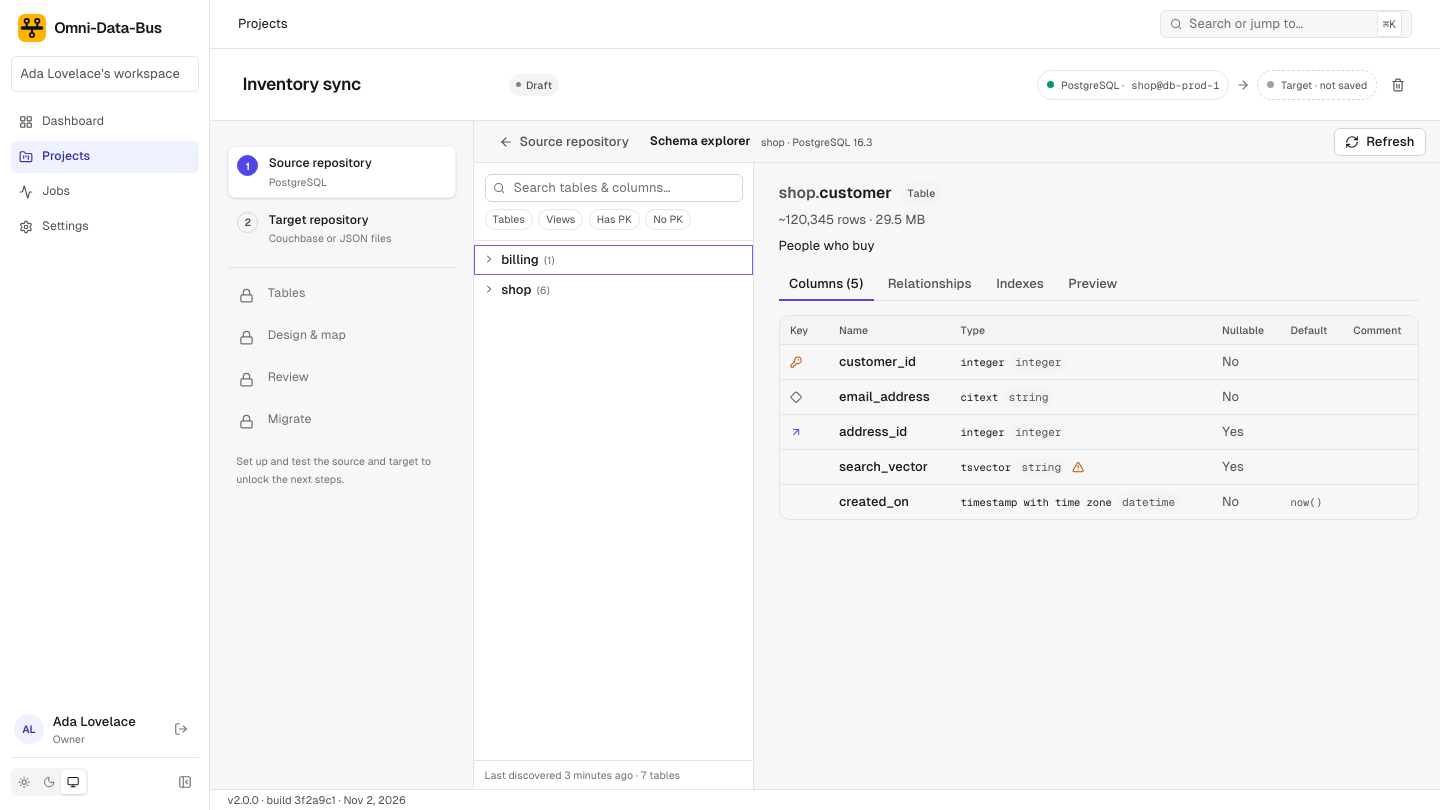
SchemaExplorerPage › AC6: preserves selection after refresh
This screenshot has width=1440, height=810.
Check: the heading "shop.customer" is shown, box [778, 180, 892, 205]
Click the button "Refresh" at (1380, 142), box [1334, 128, 1426, 156]
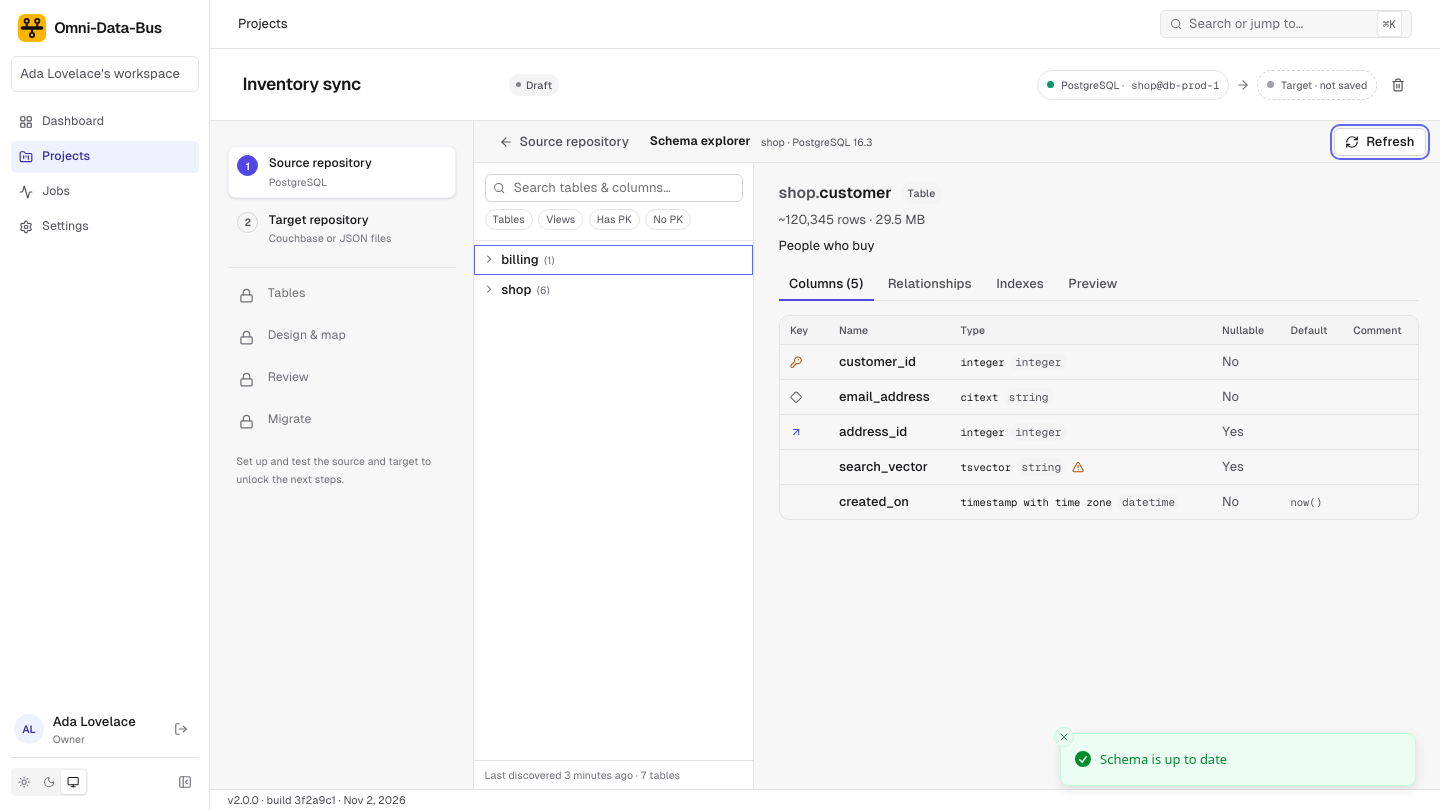
Check: the heading "shop.customer" is shown, box [778, 180, 892, 205]
Check: the text "Schema is up to date" is shown, box [1100, 750, 1227, 769]
